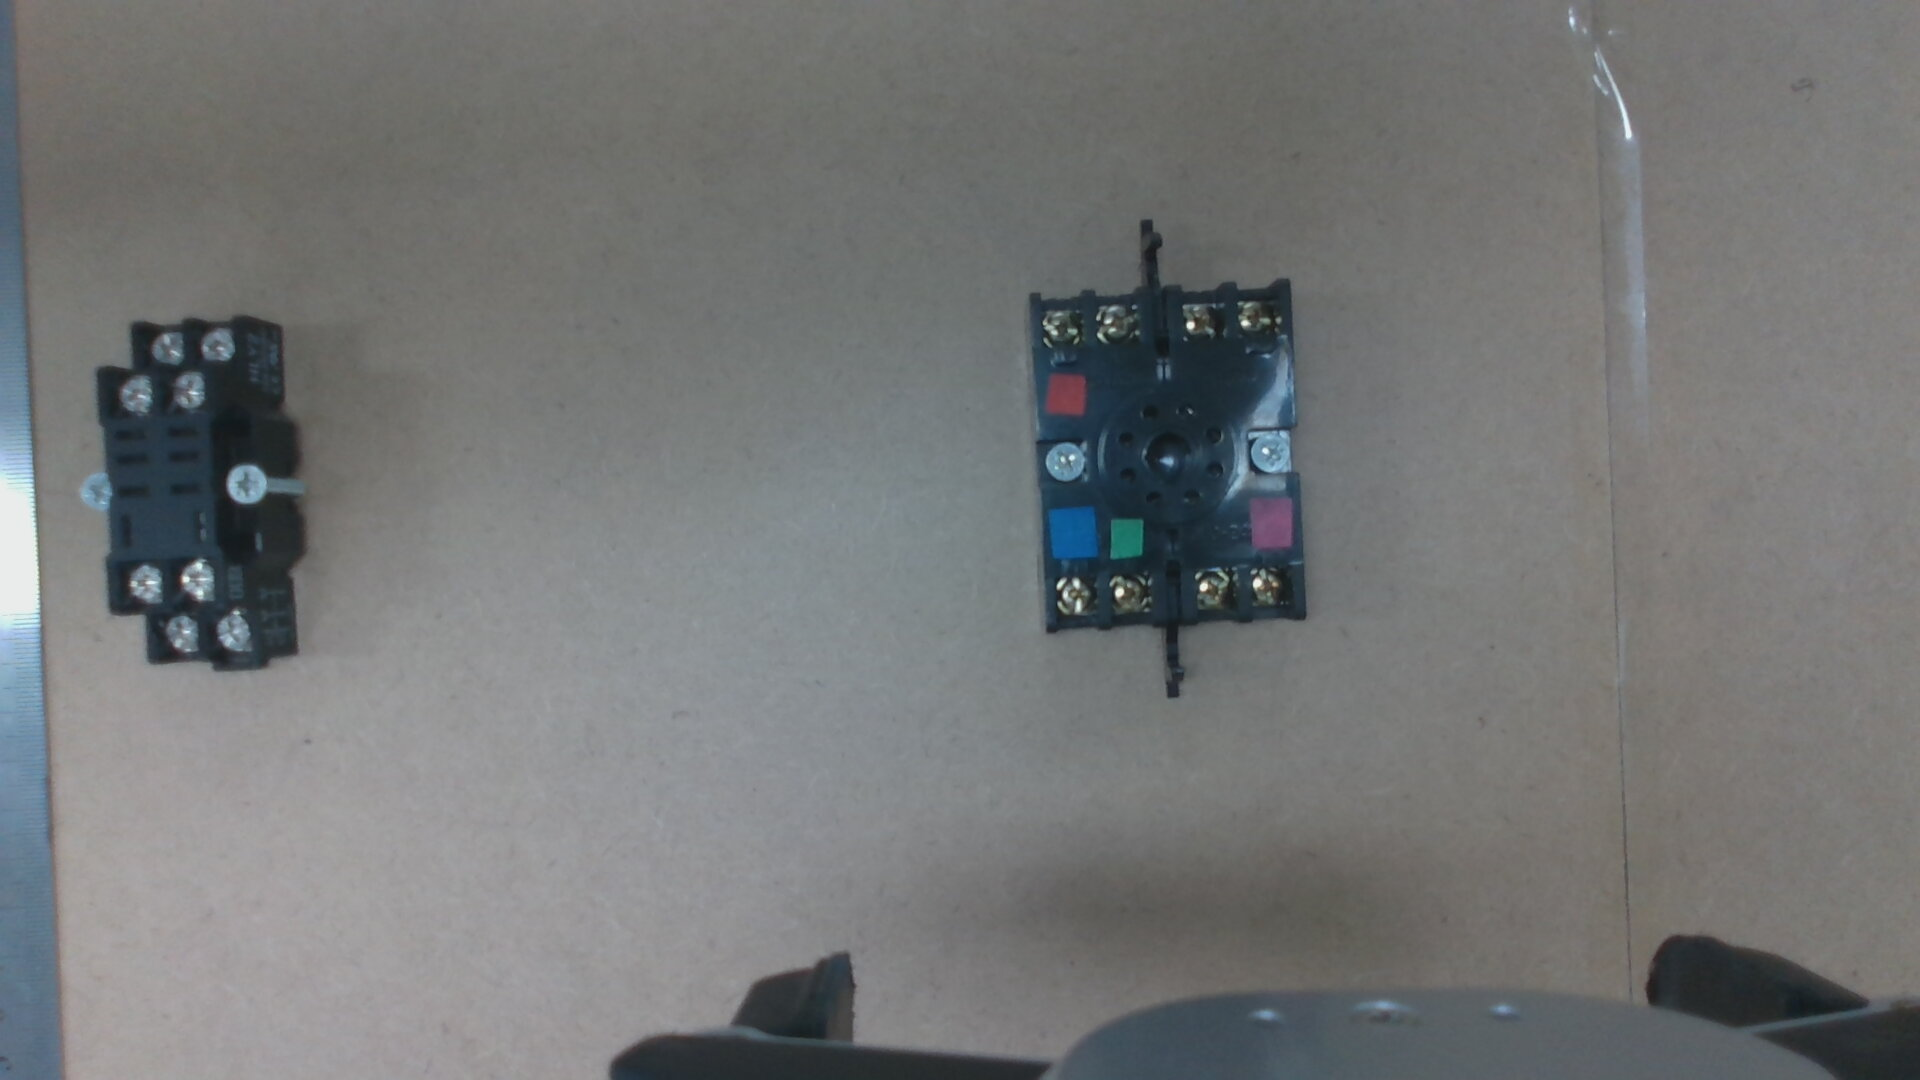timer 2: (1251, 568, 1286, 603)
timer 6: (1040, 310, 1081, 342)
timer 7: (1054, 578, 1095, 613)
timer 8: (1112, 576, 1150, 611)
